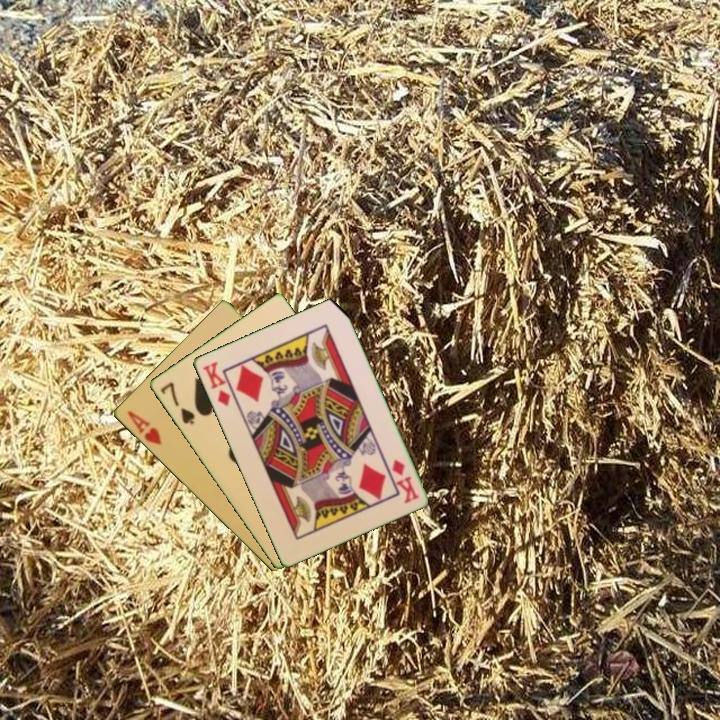7s: (157, 379, 197, 427)
Ah: (123, 407, 164, 448)
Kd: (199, 358, 233, 409), (388, 455, 422, 506)
